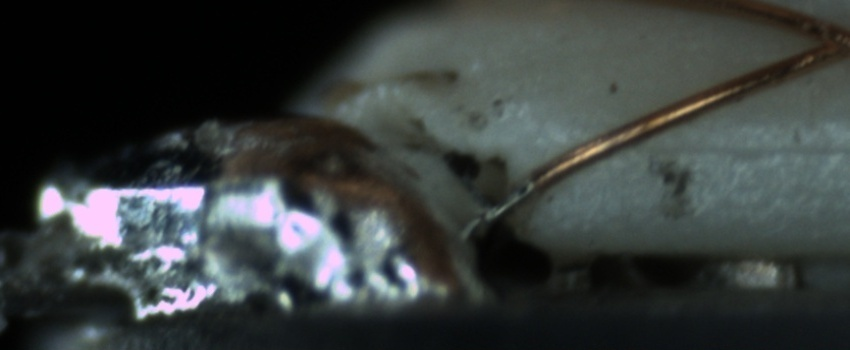CL: (794, 14, 850, 71)
DL: (611, 112, 850, 181)
TS: (480, 179, 539, 228)
TTCW: (477, 169, 550, 228)
